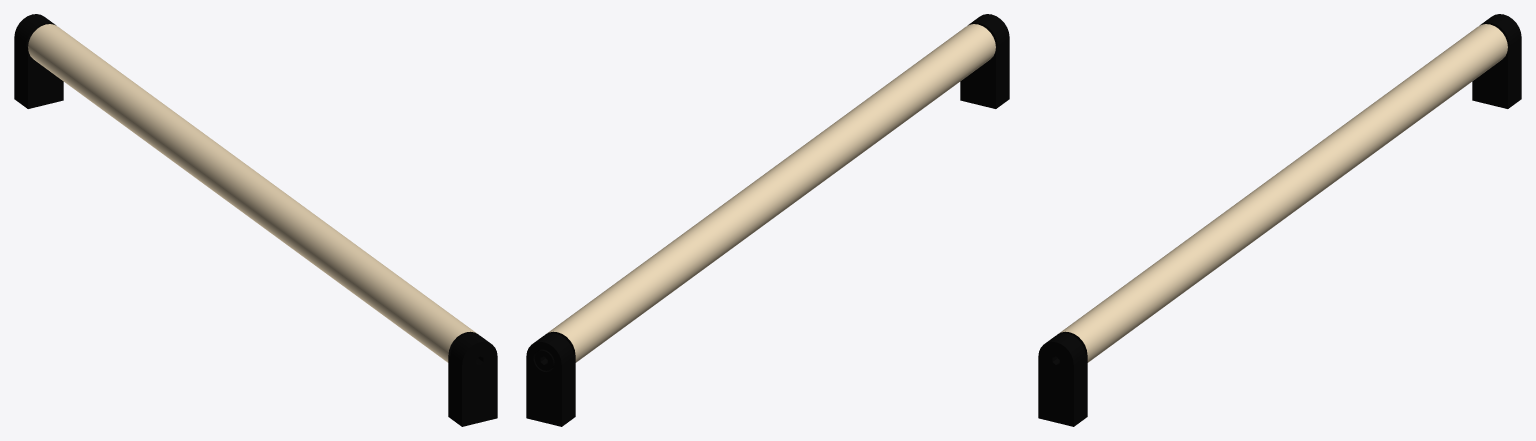
The model's file is crossing.glb.
The picture shows the model from 3 angles, left to right: view 1: azimuth 30°, elevation 25°; view 2: azimuth 150°, elevation 25°; view 3: azimuth 330°, elevation 25°; orthographic projection.
Parts seen in each view (by area): view 1: Geom3D (×2); view 2: Geom3D (×2); view 3: Geom3D (×2).
Part boxes in pixels (box(x1,y1,x2,y2)): Geom3D (×2): box(14, 14, 497, 426); Geom3D (×2): box(526, 14, 1009, 426); Geom3D (×2): box(1038, 14, 1521, 426).
Size of the model in its own units: 0.015 by 0.0325 by 0.328.
